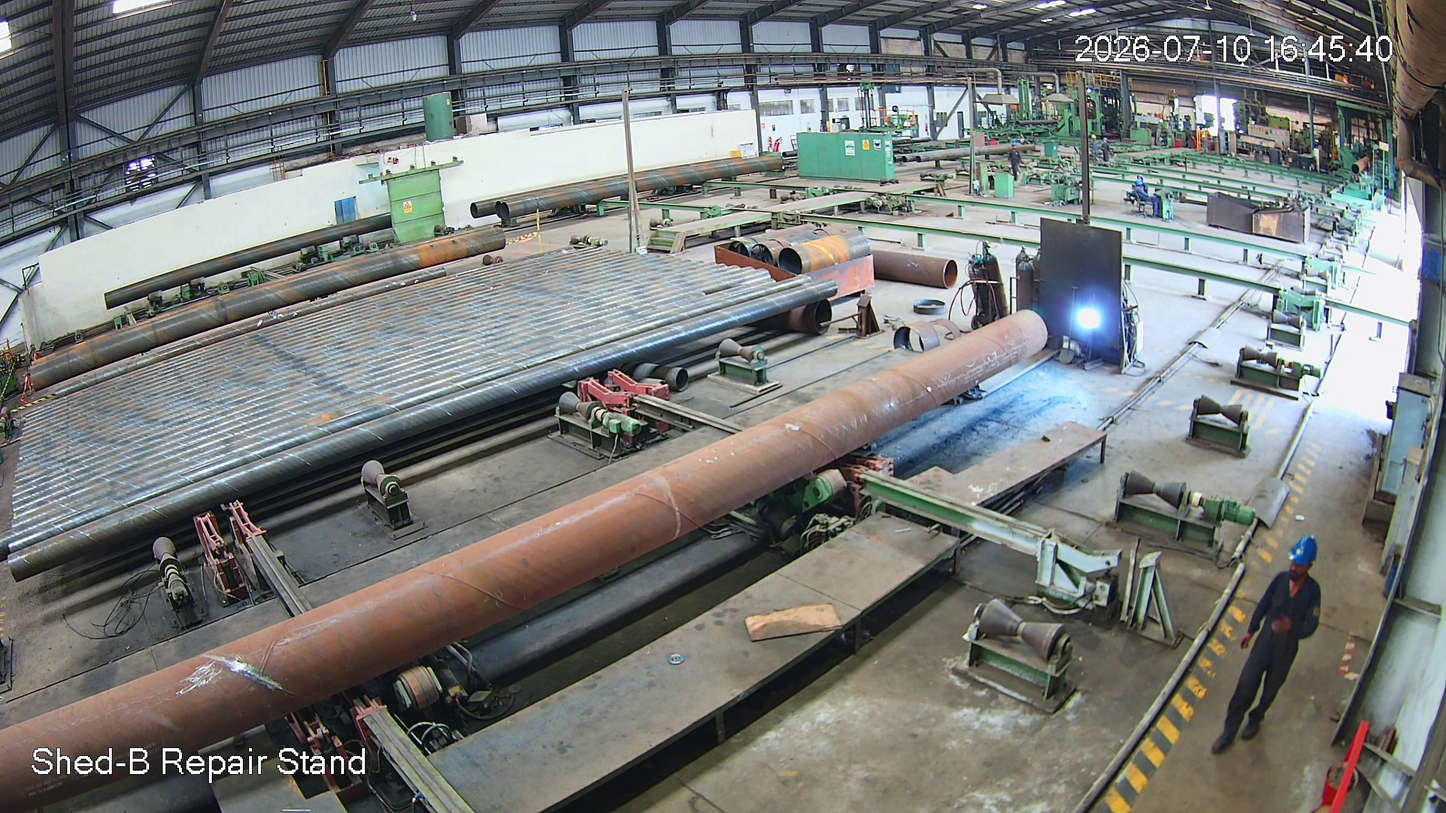Helmet: (1280, 531, 1329, 590)
Person: (1208, 537, 1330, 770)
